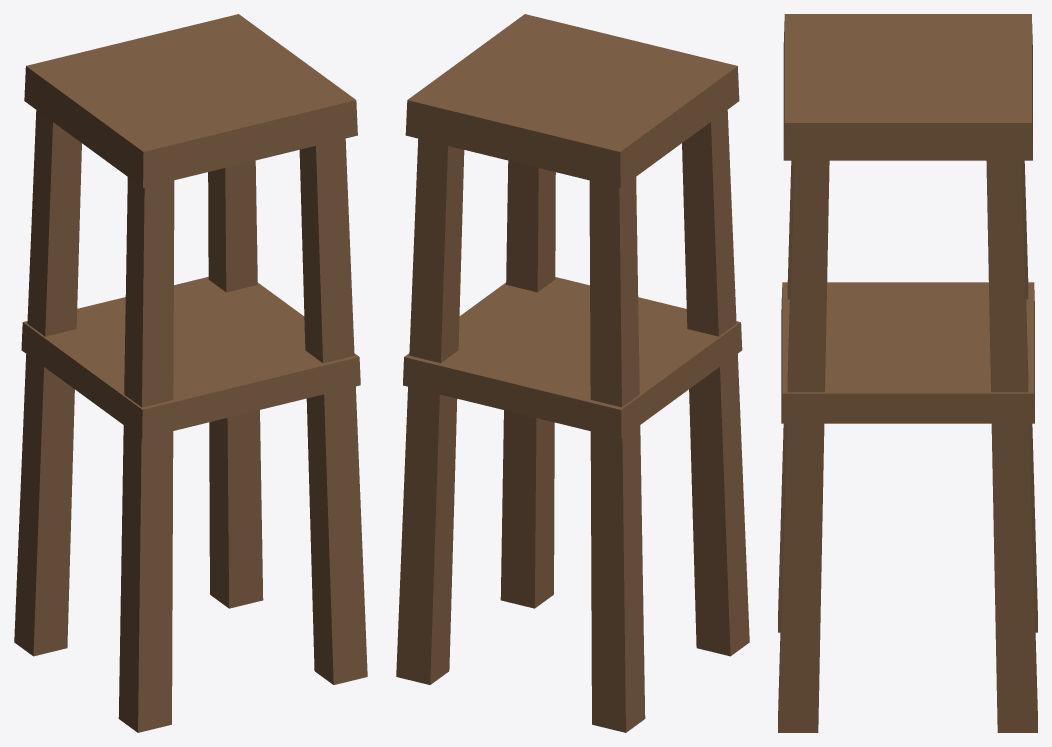
The model's file is SM_stool.fbx.
The picture shows the model from 3 angles, left to right: view 1: azimuth 30°, elevation 25°; view 2: azimuth 150°, elevation 25°; view 3: azimuth 270°, elevation 25°; orthographic projection. The views are drawn at different scales.
Visible parts, largest first — view 1: Box079; view 2: Box079; view 3: Box079.
Part boxes in pixels (x1,y1,x2,y2): Box079: (14, 14, 367, 732); Box079: (396, 14, 749, 732); Box079: (778, 14, 1037, 732).
Bounding box in the file's own units: 13.31 × 12.41 × 31.9.
